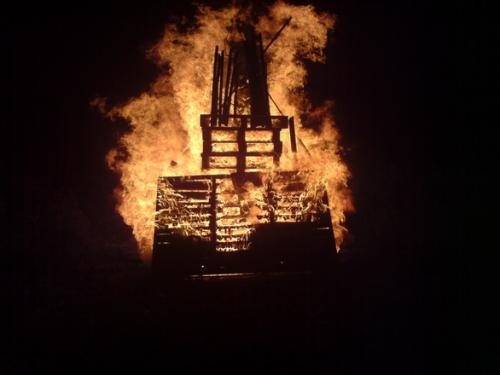fire: (115, 1, 355, 262)
